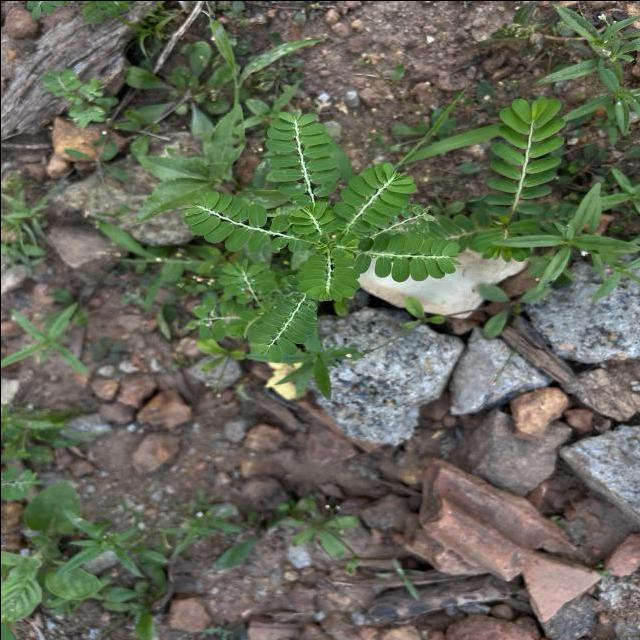Phyllanthus niruri: (482, 95, 568, 214), (180, 189, 308, 254), (262, 109, 342, 203), (331, 158, 418, 231), (356, 229, 464, 283), (243, 291, 320, 365), (290, 247, 362, 305)
